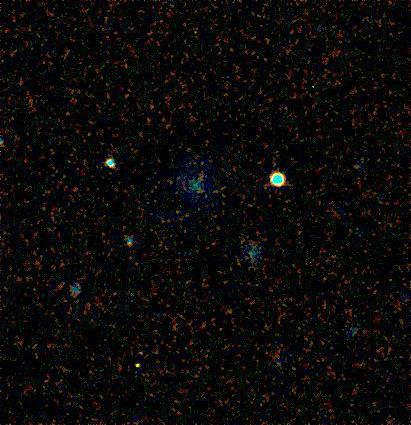star: (126, 351, 156, 381)
